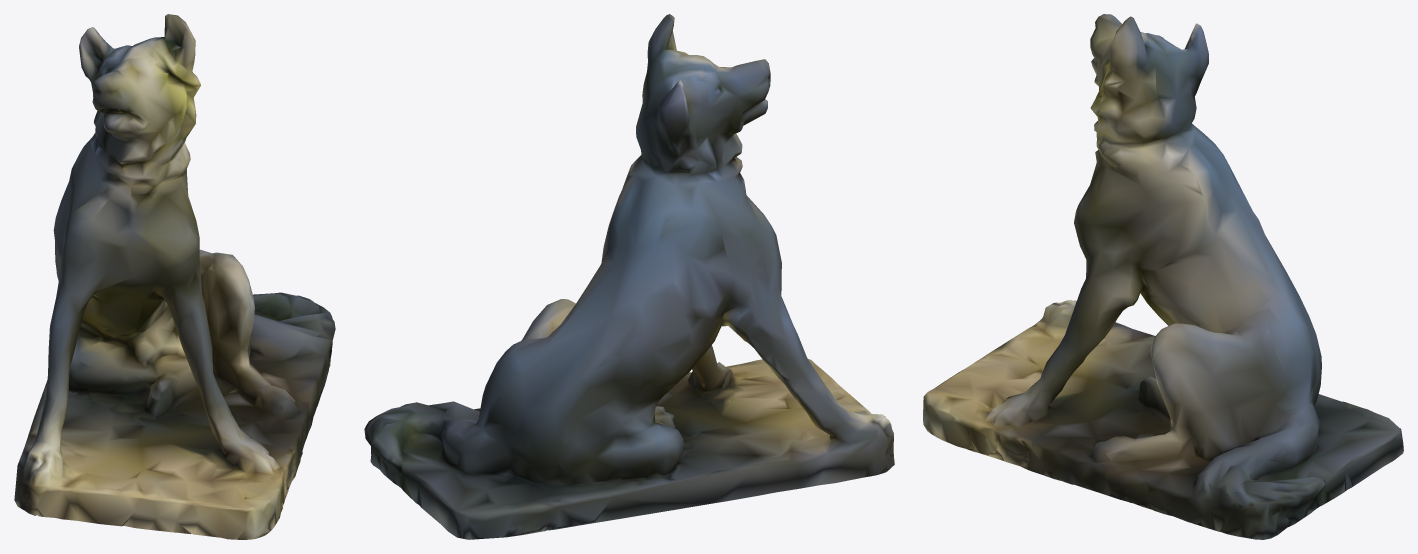
Rendered from gaunt-hound.85897bba.glb.
3 renders of one model, left to right at view 1: azimuth 30°, elevation 25°; view 2: azimuth 150°, elevation 25°; view 3: azimuth 270°, elevation 25°, orthographic. The views are drawn at different scales.
Parts seen in each view (by area): view 1: body; view 2: body; view 3: body.
Part boxes in pixels (x1,y1,x2,y2): body: [14, 14, 335, 539]; body: [364, 14, 894, 539]; body: [923, 14, 1403, 539].
Size of what is drawn, in the model's own units: 0.9323 by 0.9645 by 0.9994.
